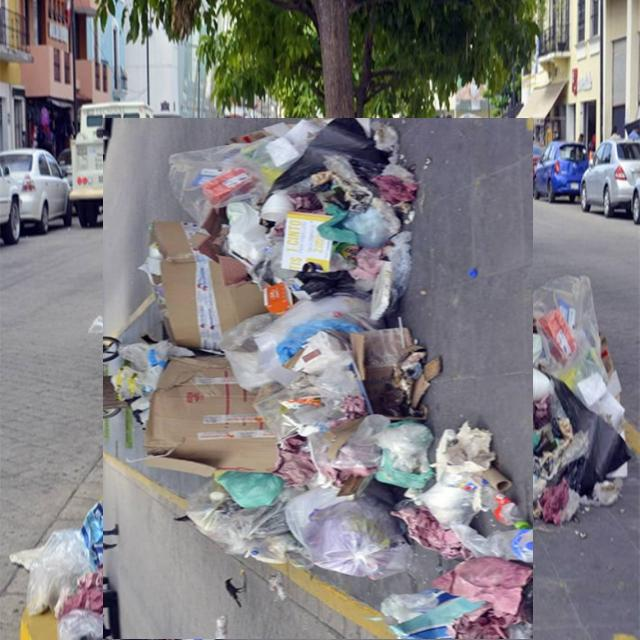garbage: (57, 163, 579, 640)
